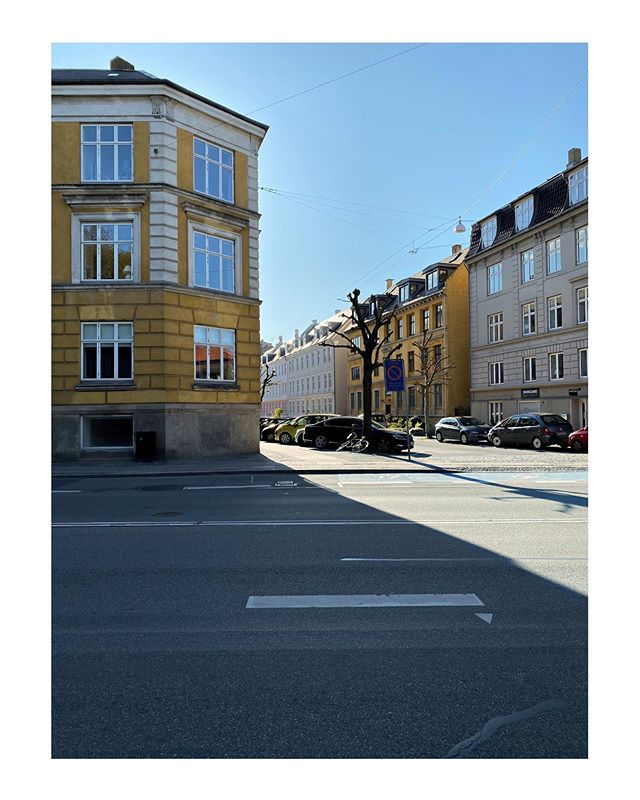building: (50, 70, 267, 452), (472, 161, 584, 430), (340, 249, 464, 422), (260, 307, 355, 414)
car: (296, 400, 422, 457), (485, 410, 570, 453), (433, 409, 485, 447)
sky: (268, 41, 590, 286)
street: (51, 476, 587, 754)
